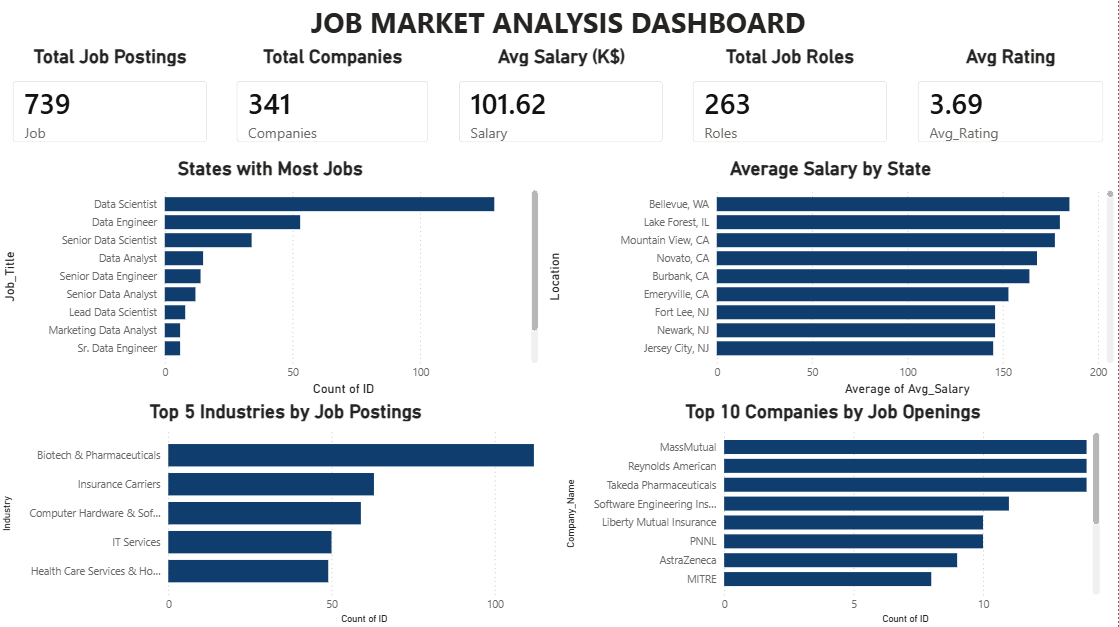

What the dashboard file says about the page in this screenshot:
{"tool":"powerbi","page":{"name":"Page 1","canvas":[1280,720],"ordinal":0},"visuals":[{"type":"cardVisual","title":"Total Job Postings","fields":{"Data":["Job_Table.Job"]},"box":[0,52.5,256.2,128.8],"z":0},{"type":"cardVisual","title":"Total Companies","fields":{"Data":["Job_Table.Companies"]},"box":[256.2,52.5,253.8,128.8],"z":1000},{"type":"cardVisual","title":"Avg Salary (K$)","fields":{"Data":["Job_Table.Salary"]},"box":[510,52.5,267.5,128.8],"z":2000},{"type":"cardVisual","title":"Total Job Roles","fields":{"Data":["Job_Table.Roles"]},"box":[777.5,52.5,256.2,128.8],"z":3000},{"type":"cardVisual","title":"Avg Rating","fields":{"Data":["Job_Table.Avg_Rating"]},"box":[1033.8,52.5,246.2,128.8],"z":4000},{"type":"clusteredBarChart","title":"Average Salary by State","fields":{"Y":["Avg(Job_Table.Avg_Salary)"],"Category":["Job_Table.Location"]},"box":[622.5,181.2,657.5,277.5],"z":5000},{"type":"textbox","box":[0,0,1280,52.5],"z":6000},{"type":"clusteredBarChart","title":"Top 5 Industries by Job Postings","fields":{"Category":["Job_Table.Industry"],"Y":["CountNonNull(Job_Table.ID)"]},"box":[0,458.8,657.5,261.2],"z":7000},{"type":"clusteredBarChart","title":"Top 10 Companies by Job Openings","fields":{"Category":["Job_Table.Company_Name"],"Y":["CountNonNull(Job_Table.ID)"]},"box":[643.8,458.8,620,261.2],"z":8000},{"type":"clusteredBarChart","title":" States with Most Jobs ","fields":{"Category":["Job_Table.Job_Title"],"Y":["CountNonNull(Job_Table.ID)"]},"box":[0,181.2,622.5,277.5],"z":9000}]}

Visuals, with their boxes in screenshot pixels (x1, y1, x2, y2), scaled from the page's 1280x720 canvas onto the 1119x627 screenshot:
"Total Job Postings" cardVisual: <box>0,46,224,158</box>
"Total Companies" cardVisual: <box>224,46,446,158</box>
"Avg Salary (K$)" cardVisual: <box>446,46,680,158</box>
"Total Job Roles" cardVisual: <box>680,46,904,158</box>
"Avg Rating" cardVisual: <box>904,46,1118,158</box>
"Average Salary by State" clusteredBarChart: <box>544,158,1118,399</box>
textbox: <box>0,0,1118,46</box>
"Top 5 Industries by Job Postings" clusteredBarChart: <box>0,400,575,626</box>
"Top 10 Companies by Job Openings" clusteredBarChart: <box>563,400,1105,626</box>
" States with Most Jobs " clusteredBarChart: <box>0,158,544,399</box>
